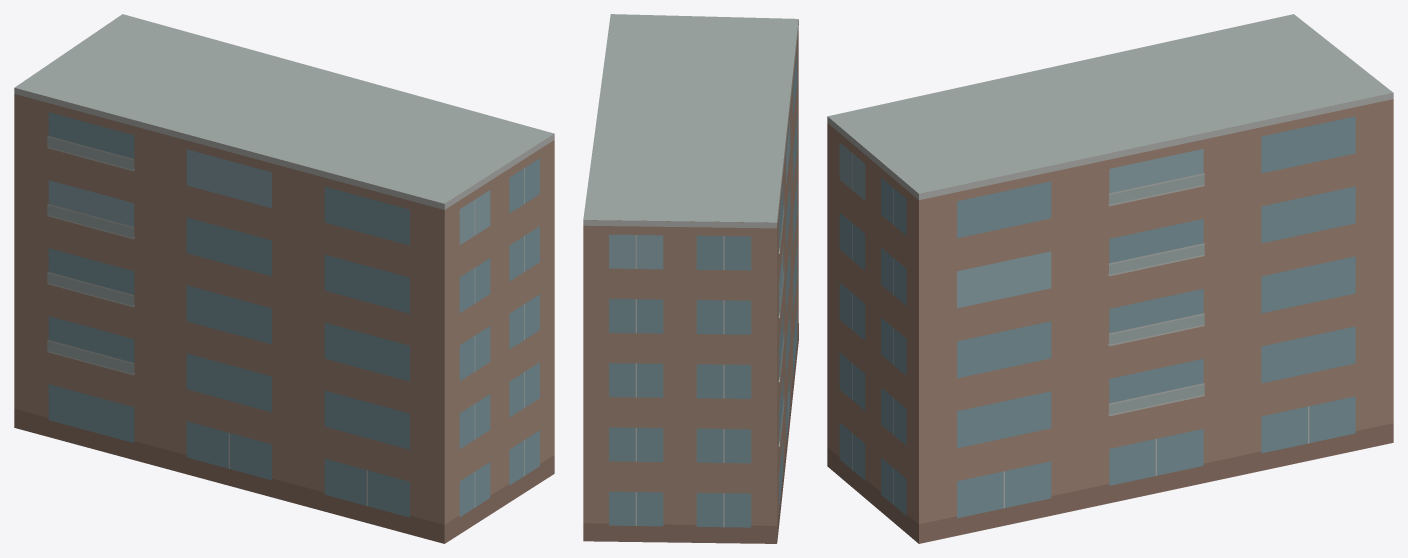
File: survey-upis-32742704.glb
3 renders of one model, left to right at view 1: azimuth 30°, elevation 25°; view 2: azimuth 150°, elevation 25°; view 3: azimuth 270°, elevation 25°, orthographic. The views are drawn at different scales.
Parts seen in each view (by area): view 1: survey-upis-32742704.tmp; view 2: survey-upis-32742704.tmp; view 3: survey-upis-32742704.tmp.
Boxes of the visible parts, bbox=[...] form: survey-upis-32742704.tmp: bbox=[14, 14, 554, 543]; survey-upis-32742704.tmp: bbox=[583, 14, 798, 543]; survey-upis-32742704.tmp: bbox=[827, 14, 1393, 543].
Size of the model in its own units: 14.89 by 13.5 by 19.8.
